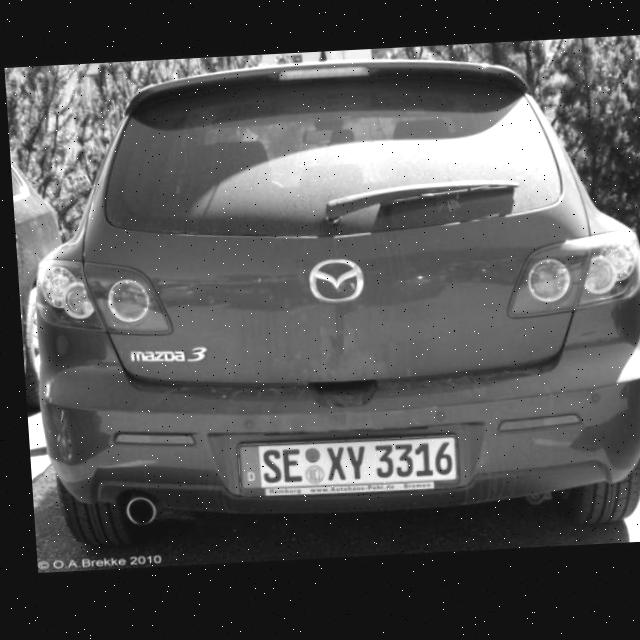license-plates: (239, 437, 459, 498)
